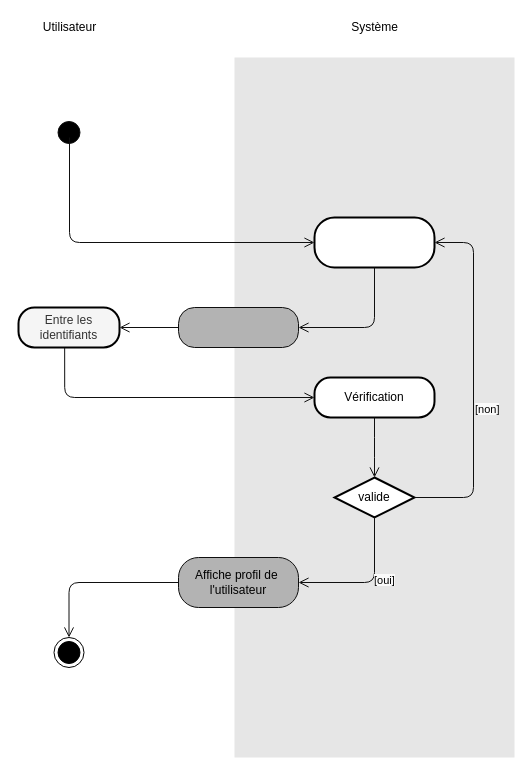
This 531x774 diagram has some shape labels left out. Each missing label, with the box of its shape:
Affiche la requête: (178, 306, 298, 348)
Requête des identifiants de connexion: (313, 216, 435, 268)
